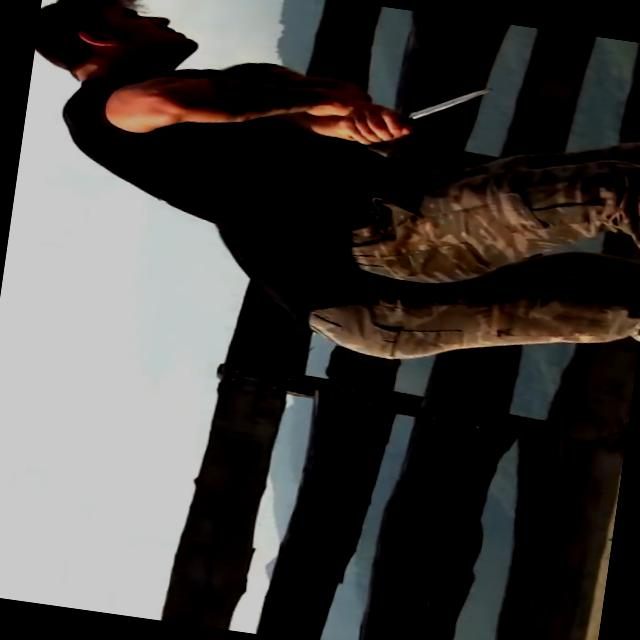knife: (344, 64, 504, 162)
